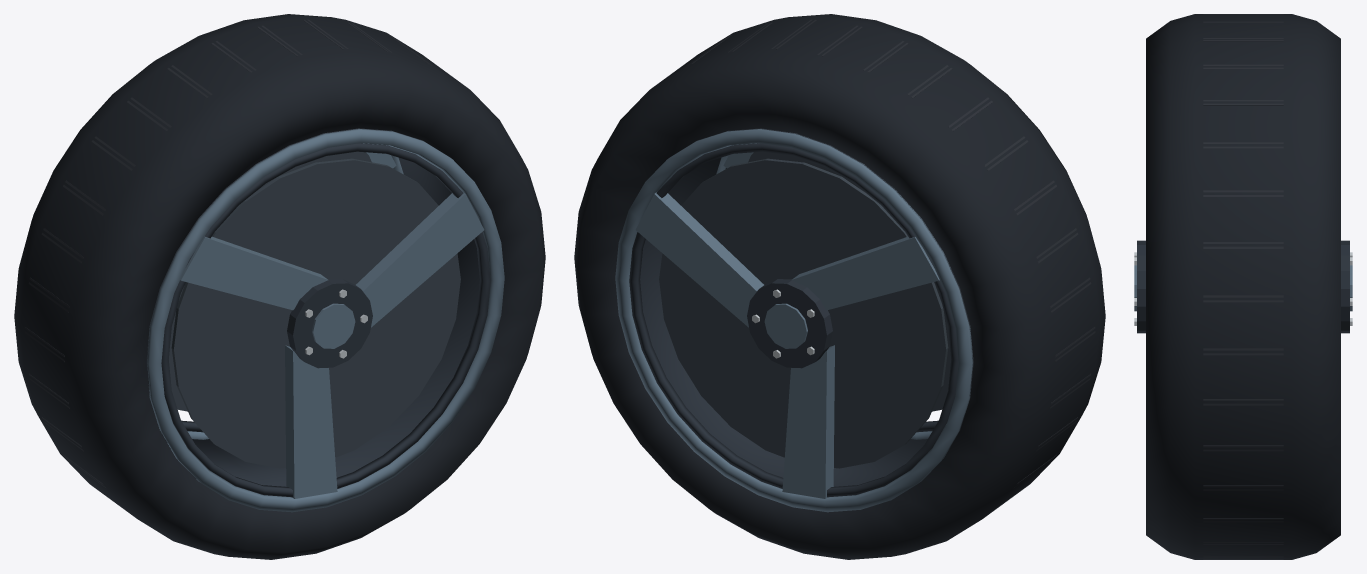
Rendered from razor.glb.
3 renders of one model, left to right at view 1: azimuth 30°, elevation 25°; view 2: azimuth 150°, elevation 25°; view 3: azimuth 270°, elevation 25°, orthographic.
Parts seen in each view (by area): view 1: wheel; view 2: wheel; view 3: wheel.
Part boxes in pixels (left/top/right/bottom): wheel: left=14, top=14, right=545, bottom=559; wheel: left=574, top=14, right=1105, bottom=559; wheel: left=1134, top=14, right=1352, bottom=559.
Bounding box in the file's own units: 2 × 2 × 0.8.
